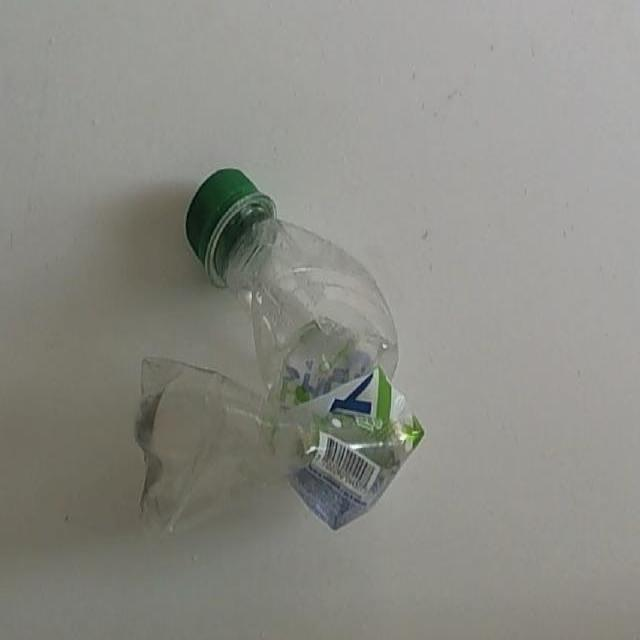defect: (131, 163, 427, 544)
